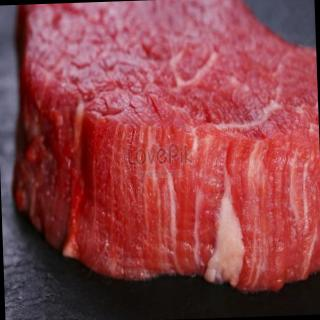Daging Sapi: (14, 1, 320, 299)
